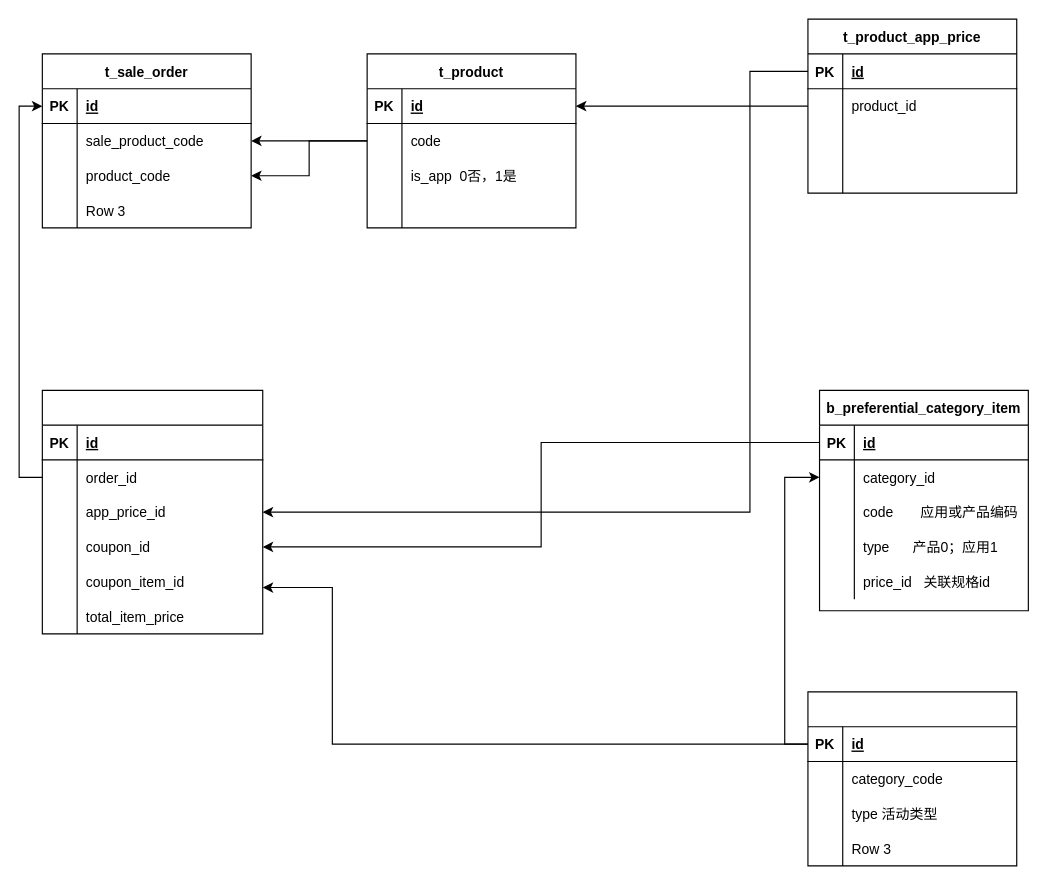
Image size: 1047x885. Some labels were removed from this diagram. The shapes that lost their labels are listed below. From the top down, each one's box as (x1, y1, x2, y2) in pixels, then its label:
(41, 389, 263, 634): t_sale_order_detail
(807, 691, 1017, 866): b_preferential_category
